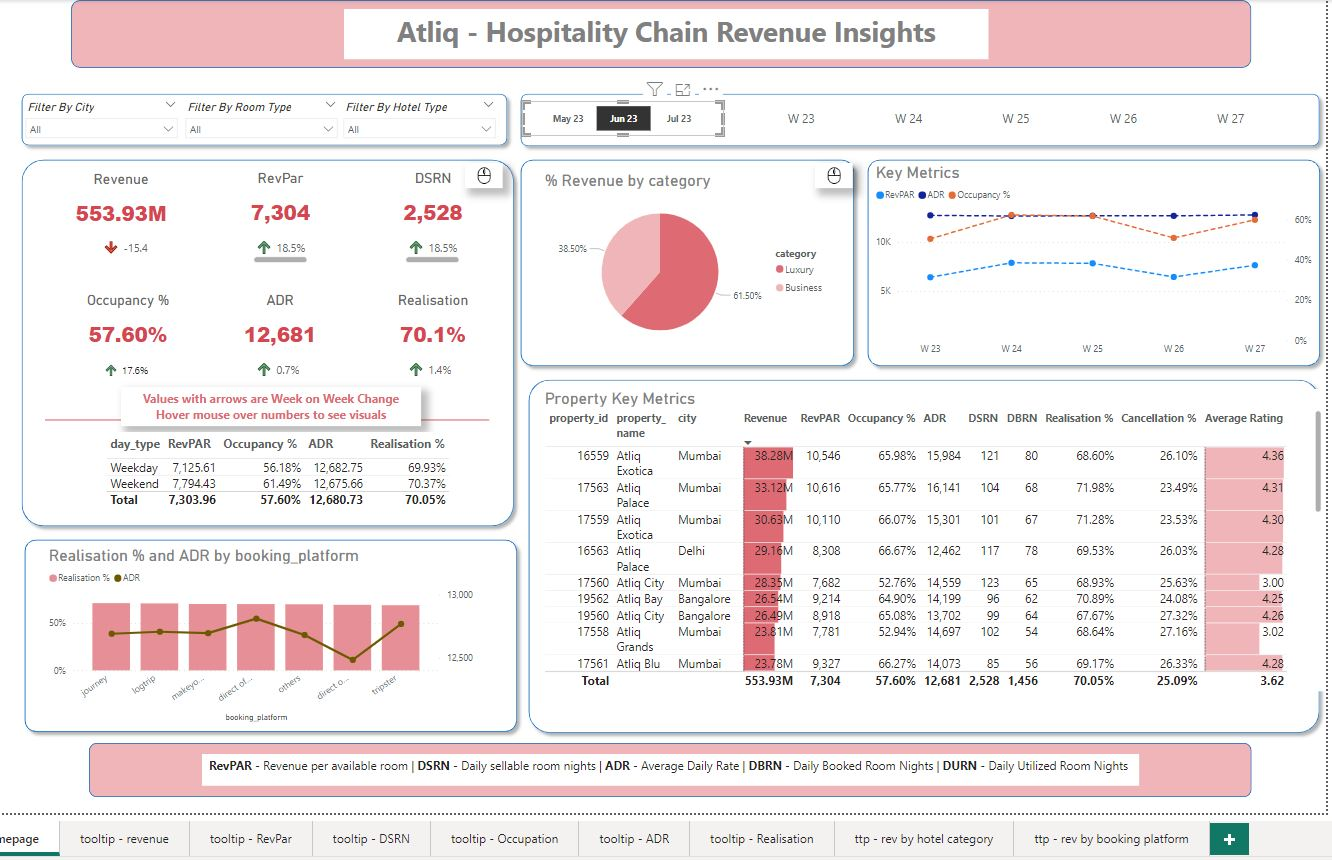

The dashboard page shown, as its layout file describes it:
{"tool":"powerbi","page":{"name":"Homepage","canvas":[1800,1100],"ordinal":0},"visuals":[{"type":"shape","box":[25.7,206.8,683.8,513.5],"z":0},{"type":"shape","box":[712,504,1088,496],"z":1000},{"type":"shape","box":[1170.3,206.8,629.7,297.3],"z":2000},{"type":"shape","box":[701.4,206.8,468.9,297.3],"z":3000},{"type":"shape","box":[701.4,117.6,1099,89],"z":4000},{"type":"shape","box":[25.7,117.1,675,88],"z":5000},{"type":"tableEx","title":"Property Key Metrics","fields":{"Values":["dim_hotels.property_id","dim_hotels.property_name","dim_hotels.city","key_measures (2).Revenue","key_measures (2).RevPAR","key_measures (2).Occupancy %","key_measures (2).ADR","key_measures (2).DSRN","key_measures (2).DBRN","key_measures (2).Realisation %","key_measures (2).Cancellation %","key_measures (2).Average Rating"]},"box":[737.4,526.3,1060.8,408.6],"z":6000},{"type":"slicer","fields":{"Values":["dim_rooms.room_class"]},"box":[245.7,130,225.7,75.7],"z":7000},{"type":"slicer","fields":{"Values":["dim_hotels.city"]},"box":[30,130,225.7,75.7],"z":8000},{"type":"slicer","fields":{"Values":["dim_date.week no"]},"box":[991.9,135.1,774.3,48.6],"z":9000},{"type":"slicer","fields":{"Values":["dim_date.mmm yy"]},"box":[712.2,136.5,273,47.3],"z":10000},{"type":"tableEx","fields":{"Values":["key_measures (2).Revenue WoW change %"]},"box":[135.1,290.5,85.1,70.3],"z":11000},{"type":"pieChart","title":"% Revenue by category","fields":{"Category":["dim_hotels.category"],"Y":["key_measures (2).Revenue"]},"box":[737.8,231.1,395.9,248.6],"z":12000},{"type":"tableEx","fields":{"Values":["key_measures (2).Revpar WoW change %"]},"box":[341.9,290.5,85.1,70.3],"z":13000},{"type":"tableEx","fields":{"Values":["key_measures (2).ADR WoW change %"]},"box":[341.9,455.4,85.1,70.3],"z":14000},{"type":"tableEx","fields":{"Values":["key_measures (2).Realisation WoW change %"]},"box":[547.3,455.4,85.1,70.3],"z":15000},{"type":"tableEx","fields":{"Values":["key_measures (2).Occupancy WoW change %"]},"box":[136.5,458.1,93.2,64.9],"z":16000},{"type":"tableEx","fields":{"Values":["key_measures (2).Revpar WoW change %"]},"box":[547.3,290.5,85.1,70.3],"z":17000},{"type":"slicer","fields":{"Values":["dim_hotels.category"]},"box":[460,130,225.7,75.7],"z":18000},{"type":"lineChart","title":"Key Metrics","fields":{"Y":["key_measures (2).RevPAR","key_measures (2).ADR"],"Category":["dim_date.mmm yy.Variation.Date Hierarchy.Month","dim_date.week no"],"Y2":["key_measures (2).Occupancy %"]},"box":[1185.1,220.3,600,270.3],"z":19000},{"type":"card","title":"Revenue","fields":{"Values":["key_measures (2).Revenue"]},"box":[91.9,231.1,154.1,94.6],"z":20000},{"type":"card","title":"DSRN","fields":{"Values":["key_measures (2).DSRN"]},"box":[513.5,229.7,154.1,95.9],"z":21000},{"type":"card","title":"RevPar","fields":{"Values":["key_measures (2).RevPAR"]},"box":[306.8,229.7,155.4,95.9],"z":22000},{"type":"shape","box":[66.2,550,601.4,35.1],"z":23000},{"type":"textbox","box":[169.1,523.6,405.9,52.8],"z":24000},{"type":"tableEx","fields":{"Values":["dim_date.day_type","key_measures (2).RevPAR","key_measures (2).Occupancy %","key_measures (2).ADR","key_measures (2).Realisation %"]},"box":[143.2,585.1,479.7,110.8],"z":25000},{"type":"card","title":"Occupancy %","fields":{"Values":["key_measures (2).Occupancy %"]},"box":[101.4,394.6,154.1,95.9],"z":26000},{"type":"card","title":"ADR","fields":{"Values":["key_measures (2).ADR"]},"box":[306.8,394.6,154.1,95.9],"z":27000},{"type":"card","title":"Realisation","fields":{"Values":["key_measures (2).Realisation %"]},"box":[513.5,394.6,154.1,95.9],"z":28000},{"type":"shape","box":[29.7,721.6,683.8,278.4],"z":29000},{"type":"lineStackedColumnComboChart","fields":{"Category":["fact_bookings.booking_platform"],"Y":["key_measures (2).Realisation %"],"Y2":["key_measures (2).ADR"]},"box":[66.2,739.2,583.8,243.2],"z":30000},{"type":"shape","box":[125.7,1005.4,1573,73],"z":31000},{"type":"textbox","box":[278.4,1020.3,1267.6,43.2],"z":32000},{"type":"shape","box":[101.3,0,1597.3,92],"z":33000},{"type":"textbox","box":[470.7,12,872,68],"z":34000},{"type":"image","box":[1108.1,220.5,51.4,33.8],"z":35000},{"type":"image","box":[634.6,220.5,51.4,33.8],"z":36000}]}

Visuals, with their boxes on the page's 1800x1100 design canvas (x1, y1, x2, y2). These are canvas units, not pixel positions in the 1332x860 screenshot, which may show the page scaled, cropped or inside an application window:
shape: <bbox>26, 207, 710, 720</bbox>
shape: <bbox>712, 504, 1800, 1000</bbox>
shape: <bbox>1170, 207, 1800, 504</bbox>
shape: <bbox>701, 207, 1170, 504</bbox>
shape: <bbox>701, 118, 1800, 207</bbox>
shape: <bbox>26, 117, 701, 205</bbox>
"Property Key Metrics" tableEx: <bbox>737, 526, 1798, 935</bbox>
slicer - dim_rooms.room_class: <bbox>246, 130, 471, 206</bbox>
slicer - dim_hotels.city: <bbox>30, 130, 256, 206</bbox>
slicer - dim_date.week no: <bbox>992, 135, 1766, 184</bbox>
slicer - dim_date.mmm yy: <bbox>712, 136, 985, 184</bbox>
tableEx - key_measures (2).Revenue WoW change %: <bbox>135, 290, 220, 361</bbox>
"% Revenue by category" pieChart: <bbox>738, 231, 1134, 480</bbox>
tableEx - key_measures (2).Revpar WoW change %: <bbox>342, 290, 427, 361</bbox>
tableEx - key_measures (2).ADR WoW change %: <bbox>342, 455, 427, 526</bbox>
tableEx - key_measures (2).Realisation WoW change %: <bbox>547, 455, 632, 526</bbox>
tableEx - key_measures (2).Occupancy WoW change %: <bbox>136, 458, 230, 523</bbox>
tableEx - key_measures (2).Revpar WoW change %: <bbox>547, 290, 632, 361</bbox>
slicer - dim_hotels.category: <bbox>460, 130, 686, 206</bbox>
"Key Metrics" lineChart: <bbox>1185, 220, 1785, 491</bbox>
"Revenue" card: <bbox>92, 231, 246, 326</bbox>
"DSRN" card: <bbox>514, 230, 668, 326</bbox>
"RevPar" card: <bbox>307, 230, 462, 326</bbox>
shape: <bbox>66, 550, 668, 585</bbox>
textbox: <bbox>169, 524, 575, 576</bbox>
tableEx - dim_date.day_type x key_measures (2).RevPAR: <bbox>143, 585, 623, 696</bbox>
"Occupancy %" card: <bbox>101, 395, 256, 490</bbox>
"ADR" card: <bbox>307, 395, 461, 490</bbox>
"Realisation" card: <bbox>514, 395, 668, 490</bbox>
shape: <bbox>30, 722, 714, 1000</bbox>
lineStackedColumnComboChart - fact_bookings.booking_platform x key_measures (2).Realisation %: <bbox>66, 739, 650, 982</bbox>
shape: <bbox>126, 1005, 1699, 1078</bbox>
textbox: <bbox>278, 1020, 1546, 1064</bbox>
shape: <bbox>101, 0, 1699, 92</bbox>
textbox: <bbox>471, 12, 1343, 80</bbox>
image: <bbox>1108, 220, 1160, 254</bbox>
image: <bbox>635, 220, 686, 254</bbox>
